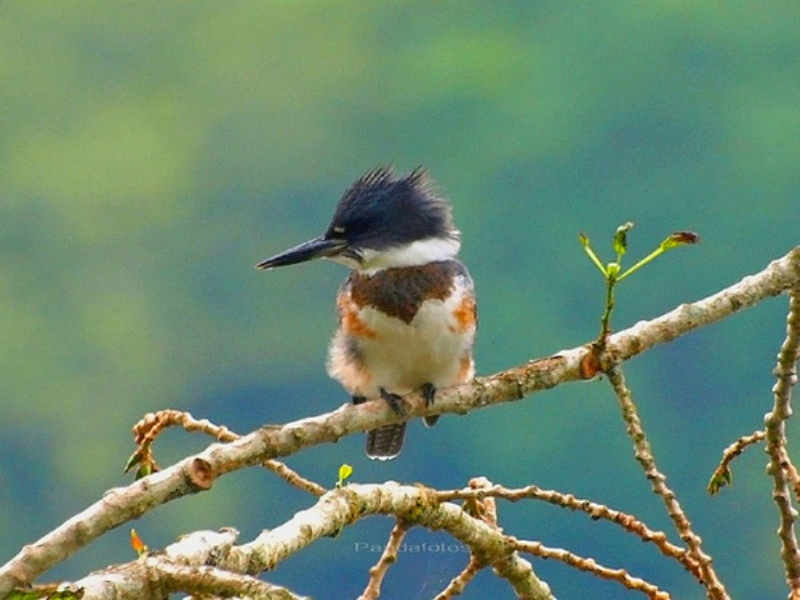kingfisher: (253, 158, 479, 466)
